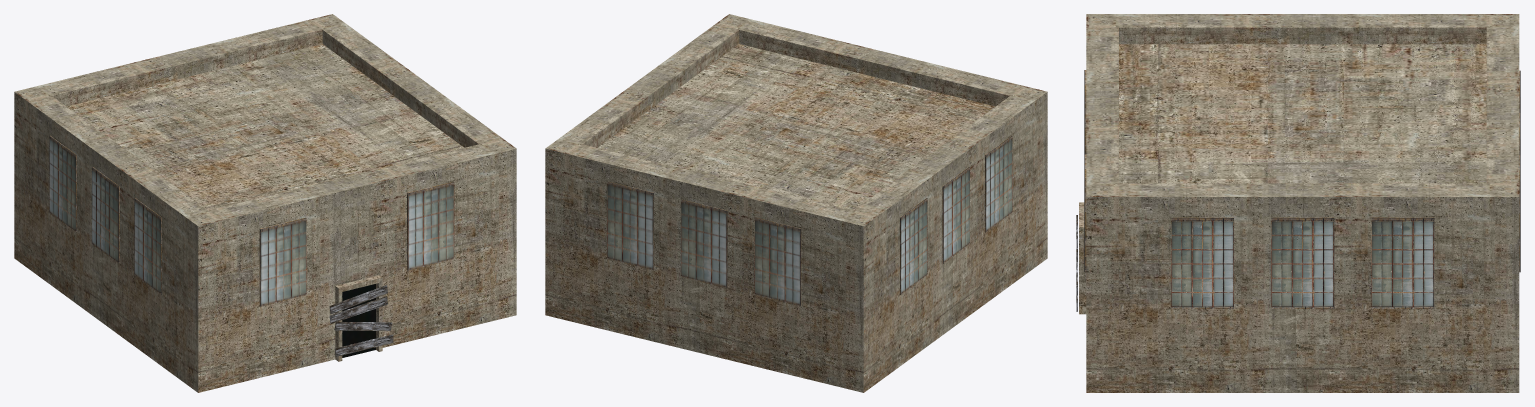
File: building_02.fbx
3 views of the same model, side by side, from view 1: azimuth 30°, elevation 25°; view 2: azimuth 150°, elevation 25°; view 3: azimuth 270°, elevation 25° (orthographic). The views are drawn at different scales.
Visible parts, largest first — view 1: building_02; view 2: building_02; view 3: building_02.
Boxes of the visible parts, x1,y1,x2,y2 form: building_02: (14,14,516,392); building_02: (545,14,1047,392); building_02: (1076,14,1520,392).
Size of the model in its own units: 11.31 by 5.62 by 11.54.
